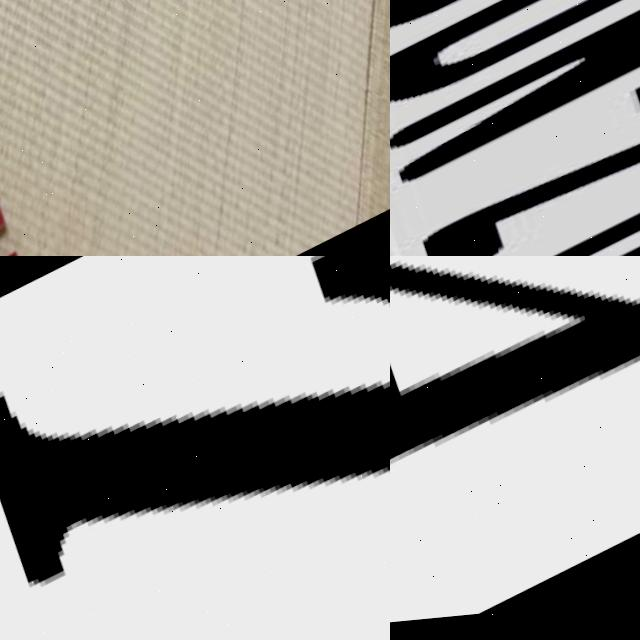6: (460, 130, 640, 256)
A: (390, 256, 640, 612)
D: (390, 0, 640, 135)
H: (450, 68, 640, 256)
N: (390, 0, 640, 205)
T: (0, 256, 390, 640)
Z: (431, 0, 640, 256)
